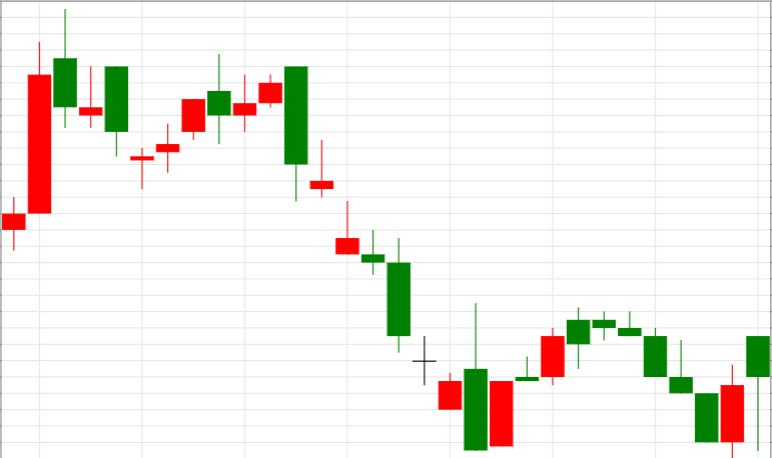bearish_engulfing_fall: (130, 54, 308, 201)
bullish_engulfing_rise: (592, 310, 744, 458)
